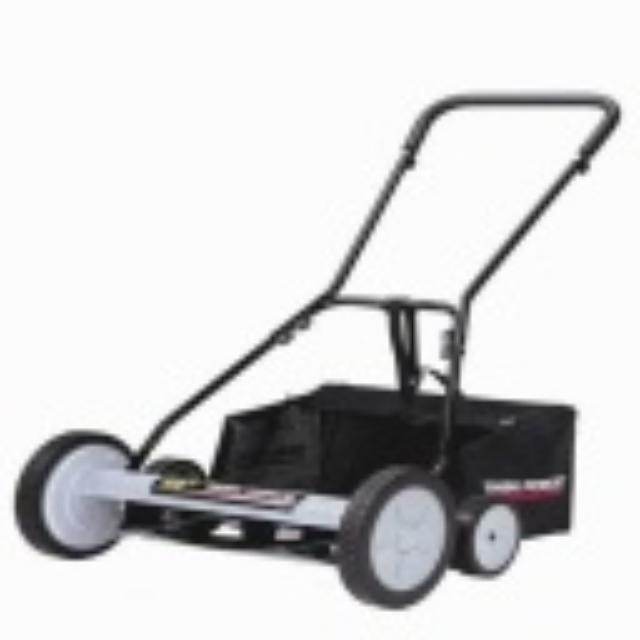Rotary-Mower: (10, 85, 620, 605)
